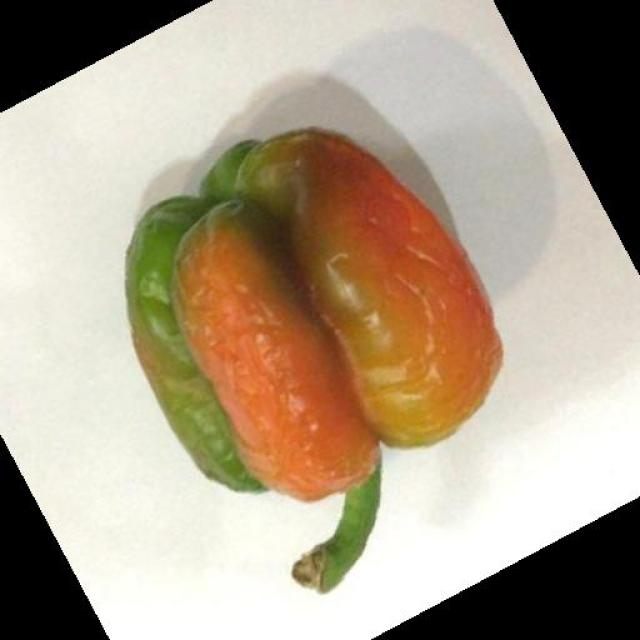Stale_Capsicum: (119, 116, 488, 597)
